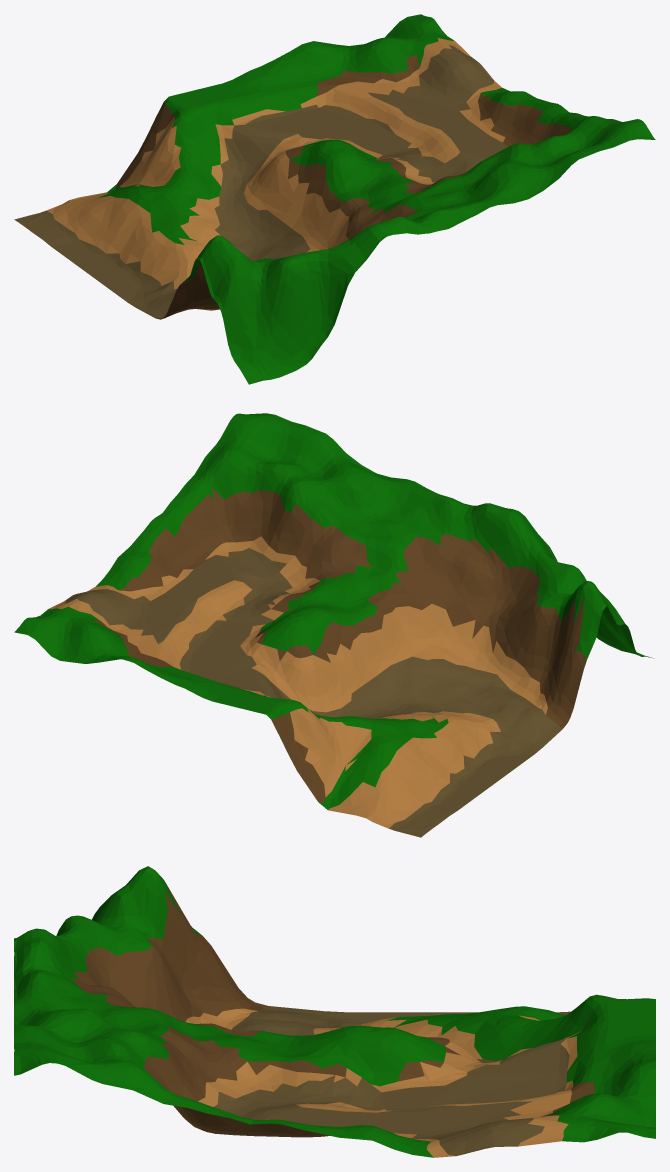
Rendered from world6.fbx.
3 renders of one model, top to bottom at view 1: azimuth 30°, elevation 25°; view 2: azimuth 150°, elevation 25°; view 3: azimuth 270°, elevation 25°, orthographic. The views are drawn at different scales.
Parts seen in each view (by area): view 1: terraa.003; view 2: terraa.003; view 3: terraa.003.
Part boxes in pixels (bbox=[...]): terraa.003: bbox=[14, 14, 655, 384]; terraa.003: bbox=[14, 413, 653, 837]; terraa.003: bbox=[14, 866, 655, 1157].
Bounding box in the file's own units: 20003 × 7589 × 20005.
